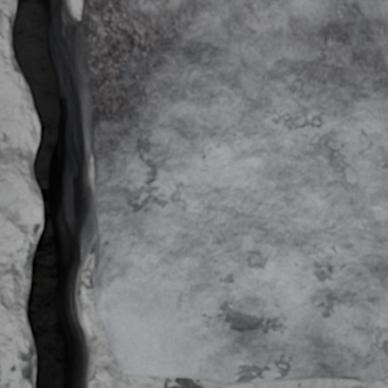brick: (81, 0, 387, 384)
crack: (2, 0, 97, 387)
